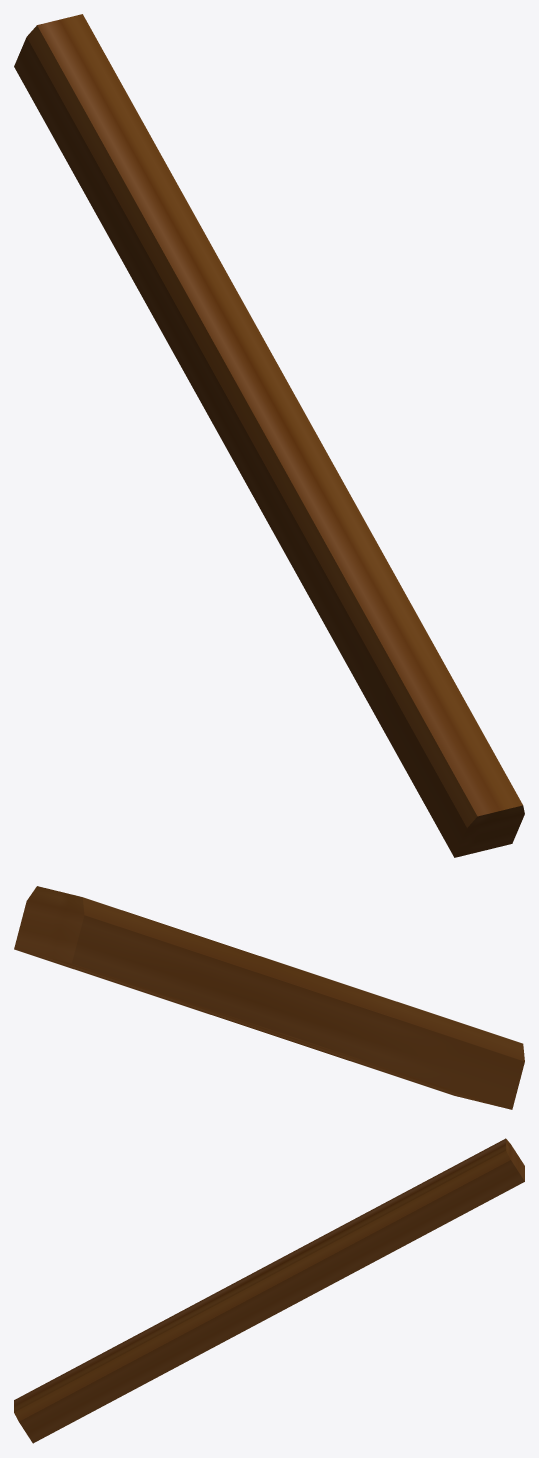
File: Rails 1.fbx
The picture shows the model from 3 angles, top to bottom: view 1: azimuth 30°, elevation 25°; view 2: azimuth 150°, elevation 25°; view 3: azimuth 270°, elevation 25°; orthographic projection. The views are drawn at different scales.
Parts seen in each view (by area): view 1: PorchRailLower.001; view 2: PorchRailLower.001; view 3: PorchRailLower.001.
Part boxes in pixels (<box>): PorchRailLower.001: <box>14,14,524,857</box>; PorchRailLower.001: <box>14,886,524,1109</box>; PorchRailLower.001: <box>14,1138,524,1443</box>.
Size of the model in its own units: 21.55 by 186 by 295.
